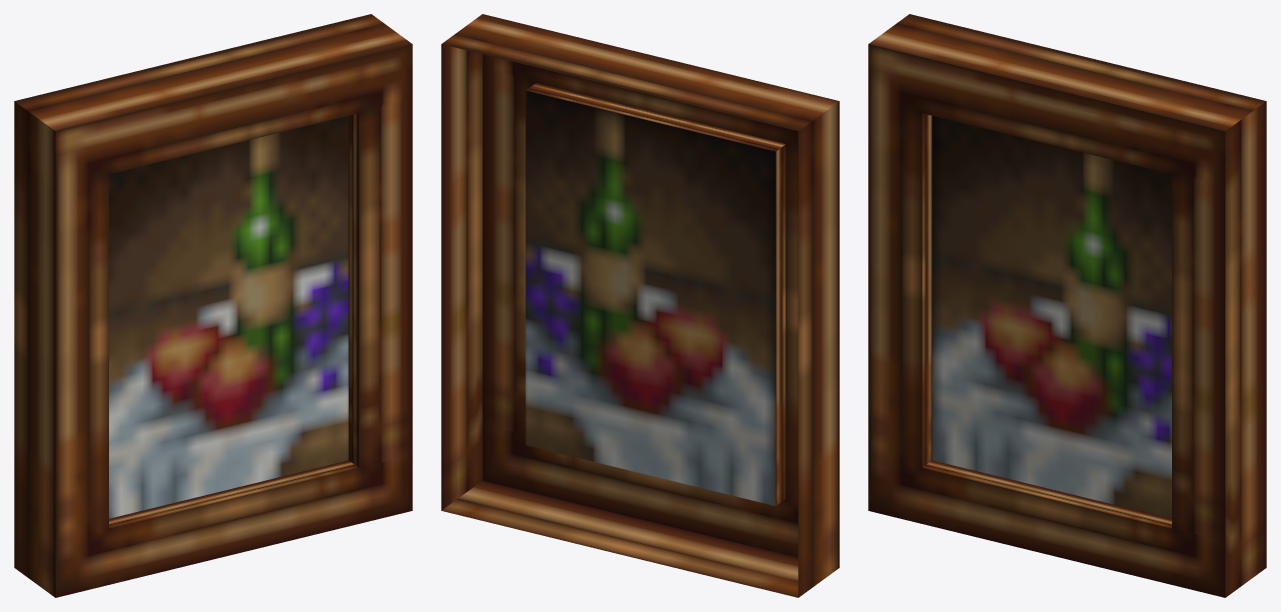
Rendered from Inside_Poly_Wall_Deco_07.obj.
3 views of the same model, side by side, from view 1: azimuth 30°, elevation 25°; view 2: azimuth 150°, elevation 25°; view 3: azimuth 330°, elevation 25° (orthographic).
Visible parts, largest first — view 1: Cube; view 2: Cube; view 3: Cube.
Boxes of the visible parts, x1,y1,x2,y2 form: Cube: (14, 14, 412, 597); Cube: (441, 14, 839, 597); Cube: (868, 14, 1266, 597).
Size of the model in its own units: 0.8 by 0.999 by 0.16.
1 material, 1 textured.
